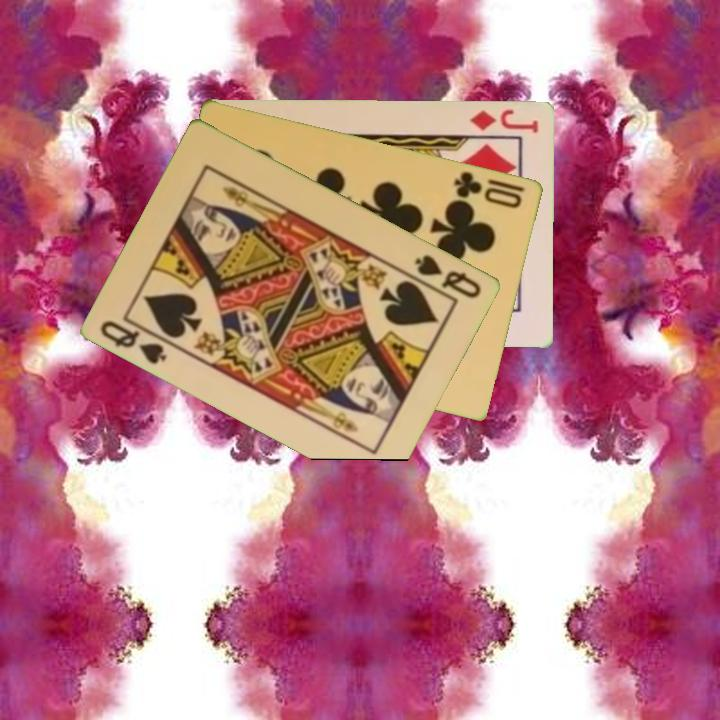10c: (451, 167, 526, 211)
Jd: (467, 105, 542, 136)
Qs: (97, 316, 171, 368), (411, 250, 485, 301)
